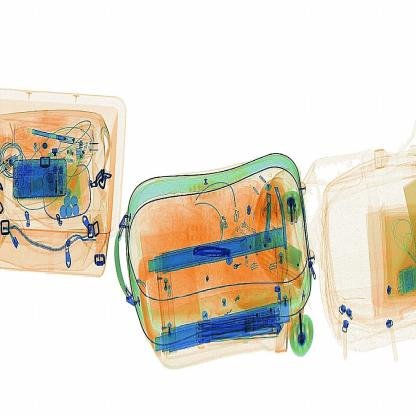knife: (186, 240, 236, 270)
